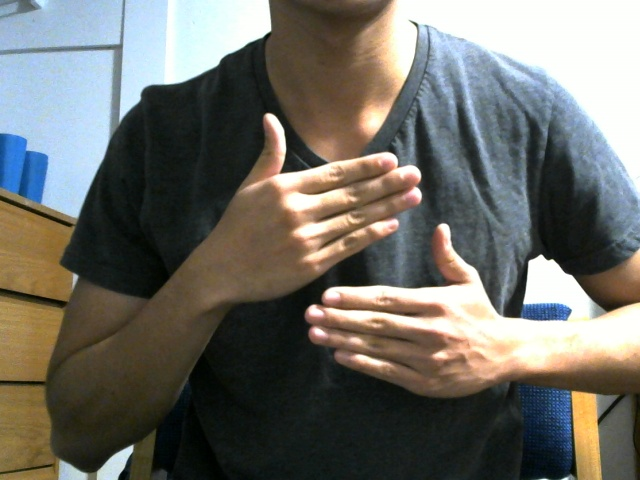Enjoy: (182, 100, 525, 420)
